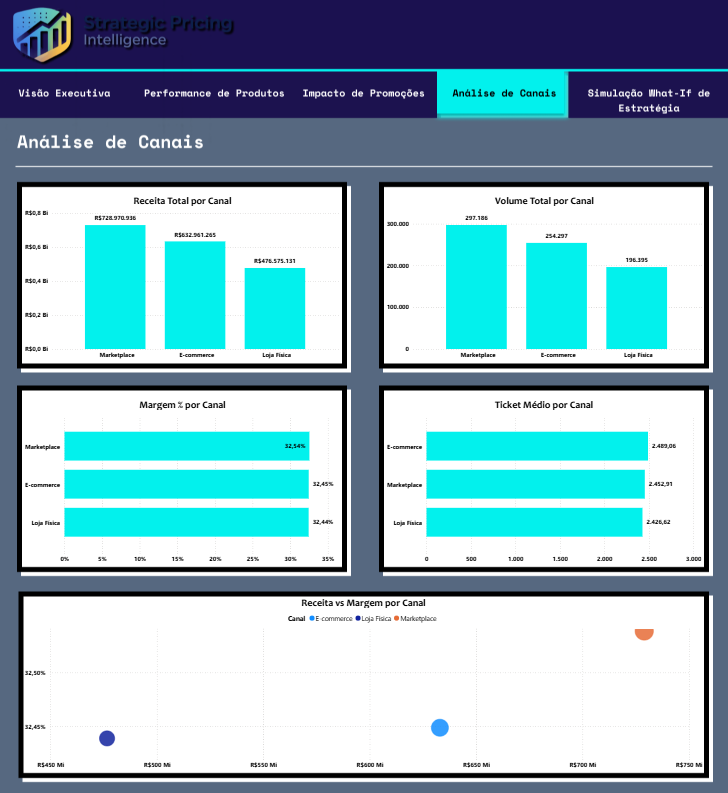

This screenshot's page, from the dashboard's own definition file:
{"tool":"powerbi","page":{"name":"Análise de Canais","canvas":[1460,1590],"ordinal":3},"visuals":[{"type":"columnChart","fields":{"Category":["Dim_Canal.Canal"],"Y":["Fato_Vendas.Receita Total"]},"box":[46,388,642,340],"z":0},{"type":"barChart","fields":{"Category":["Dim_Canal.Canal"],"Y":["Fato_Vendas.Margem %"]},"box":[46,796,642,340],"z":1000},{"type":"columnChart","fields":{"Category":["Dim_Canal.Canal"],"Y":["Fato_Vendas.Volume Total"]},"box":[770,388,642,340],"z":2000},{"type":"barChart","fields":{"Category":["Dim_Canal.Canal"],"Y":["Fato_Vendas.Ticket Médio"]},"box":[770,796,640,340],"z":3000},{"type":"scatterChart","title":"Receita vs Margem por Canal","fields":{"X":["Fato_Vendas.Receita Total"],"Y":["Fato_Vendas.Margem %"],"Size":["Fato_Vendas.Volume Total"],"Series":["Dim_Canal.Canal"]},"box":[46,1192,1366,356],"z":4000}]}

Visuals, with their boxes on the page's 1460x1590 design canvas (x1, y1, x2, y2). These are canvas units, not pixel positions in the 728x793 screenshot, which may show the page scaled, cropped or inside an application window:
columnChart - Dim_Canal.Canal x Fato_Vendas.Receita Total: <bbox>46, 388, 688, 728</bbox>
barChart - Dim_Canal.Canal x Fato_Vendas.Margem %: <bbox>46, 796, 688, 1136</bbox>
columnChart - Dim_Canal.Canal x Fato_Vendas.Volume Total: <bbox>770, 388, 1412, 728</bbox>
barChart - Dim_Canal.Canal x Fato_Vendas.Ticket Médio: <bbox>770, 796, 1410, 1136</bbox>
"Receita vs Margem por Canal" scatterChart: <bbox>46, 1192, 1412, 1548</bbox>
